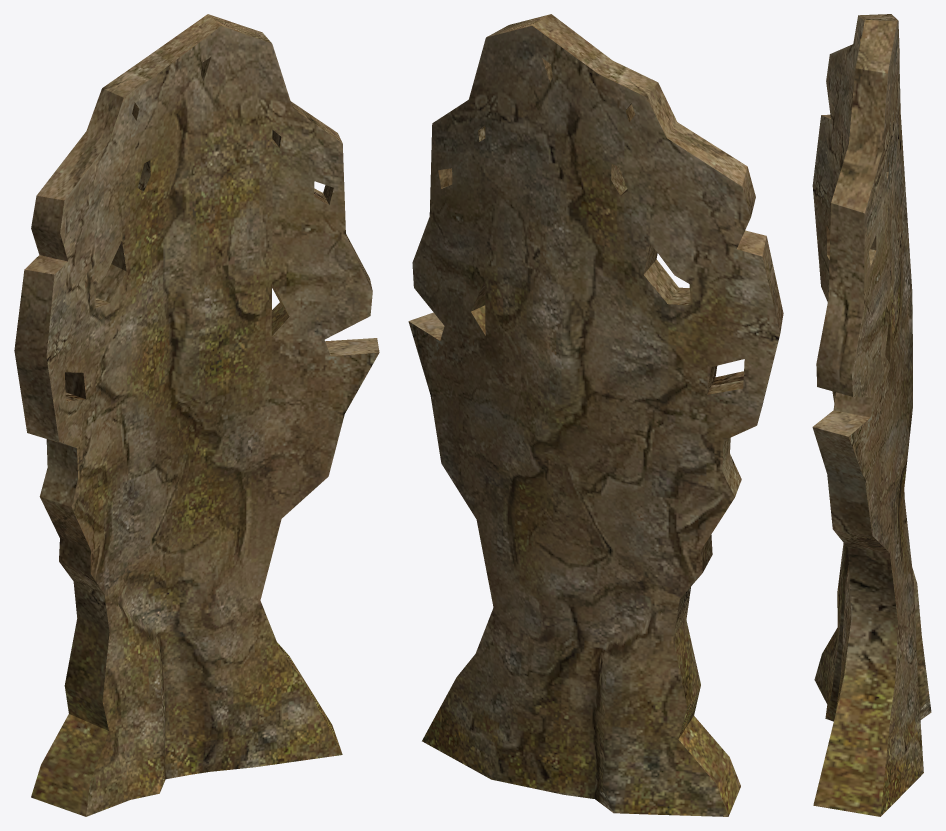
The model's file is double_01.glb.
The picture shows the model from 3 angles, left to right: view 1: azimuth 30°, elevation 25°; view 2: azimuth 150°, elevation 25°; view 3: azimuth 270°, elevation 25°; orthographic projection. The views are drawn at different scales.
Parts seen in each view (by area): view 1: objdouble_01; view 2: objdouble_01; view 3: objdouble_01.
Part boxes in pixels (x1,y1,x2,y2): objdouble_01: (14,14,379,816); objdouble_01: (408,14,783,816); objdouble_01: (812,14,931,816).
Bounding box in the file's own units: 5.07 × 9.8 × 1.43.
1 material, 1 textured.
